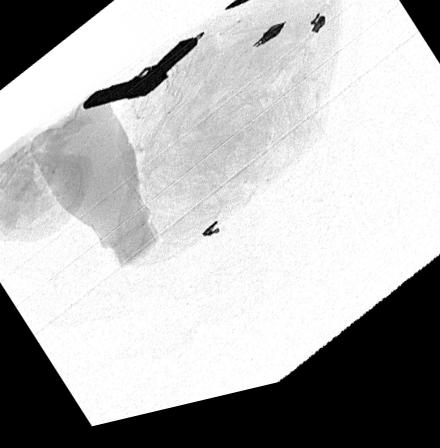Bullet: (224, 0, 275, 19)
Gun: (81, 46, 200, 114)
